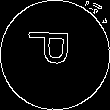P_E: (29, 35, 81, 75)
